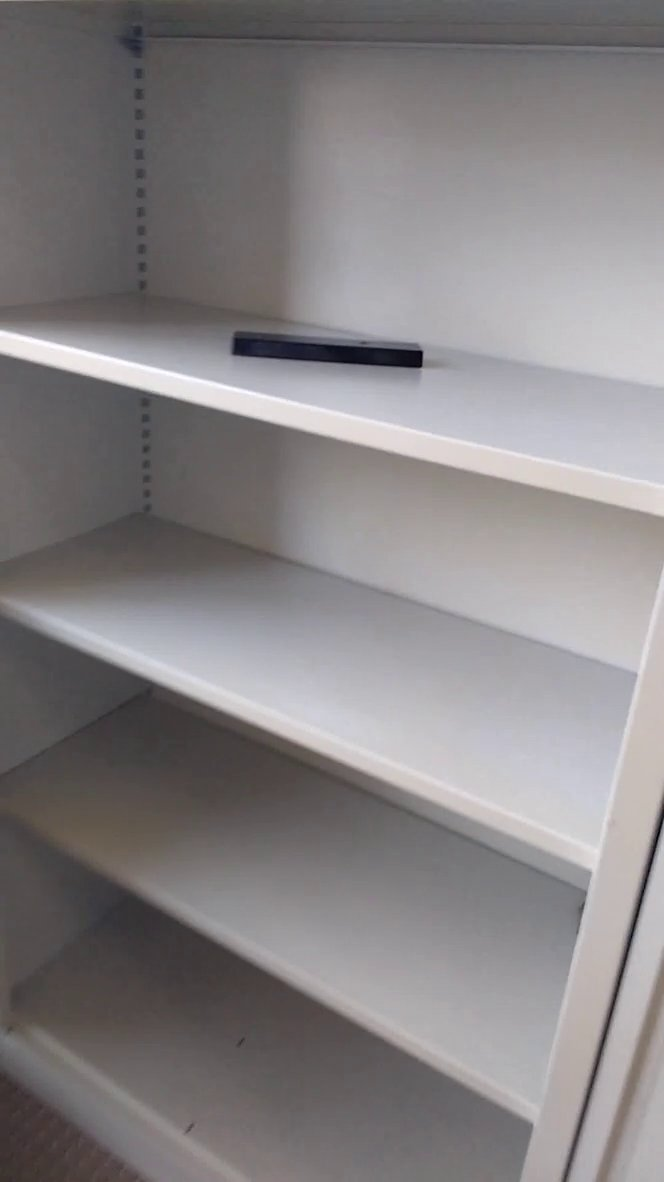remote: (219, 322, 434, 379)
